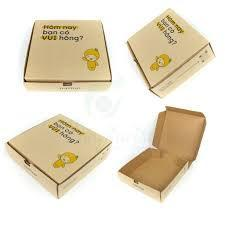box: (5, 113, 113, 199), (118, 106, 207, 202), (127, 7, 216, 99), (22, 20, 112, 92)
